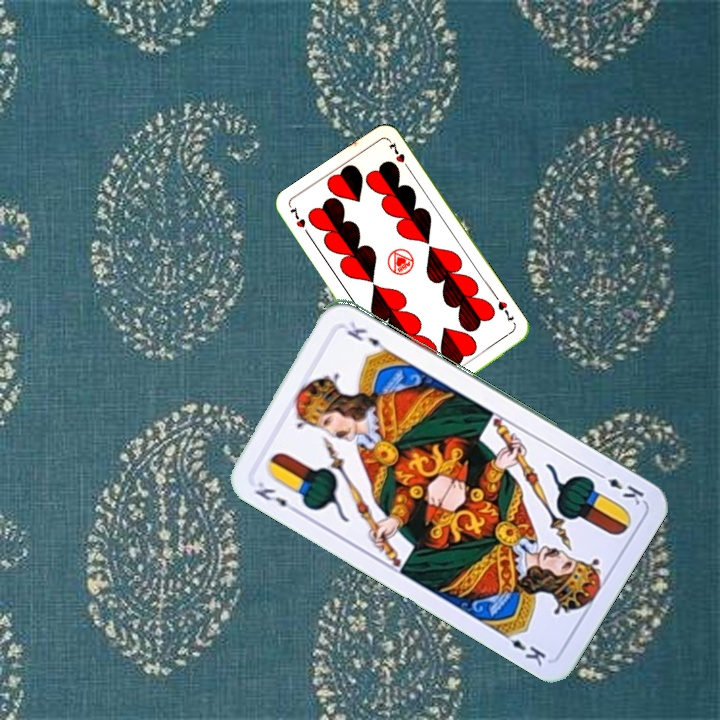EK: (247, 475, 301, 516), (592, 468, 647, 508)
H7: (286, 203, 313, 239), (491, 292, 517, 325)
